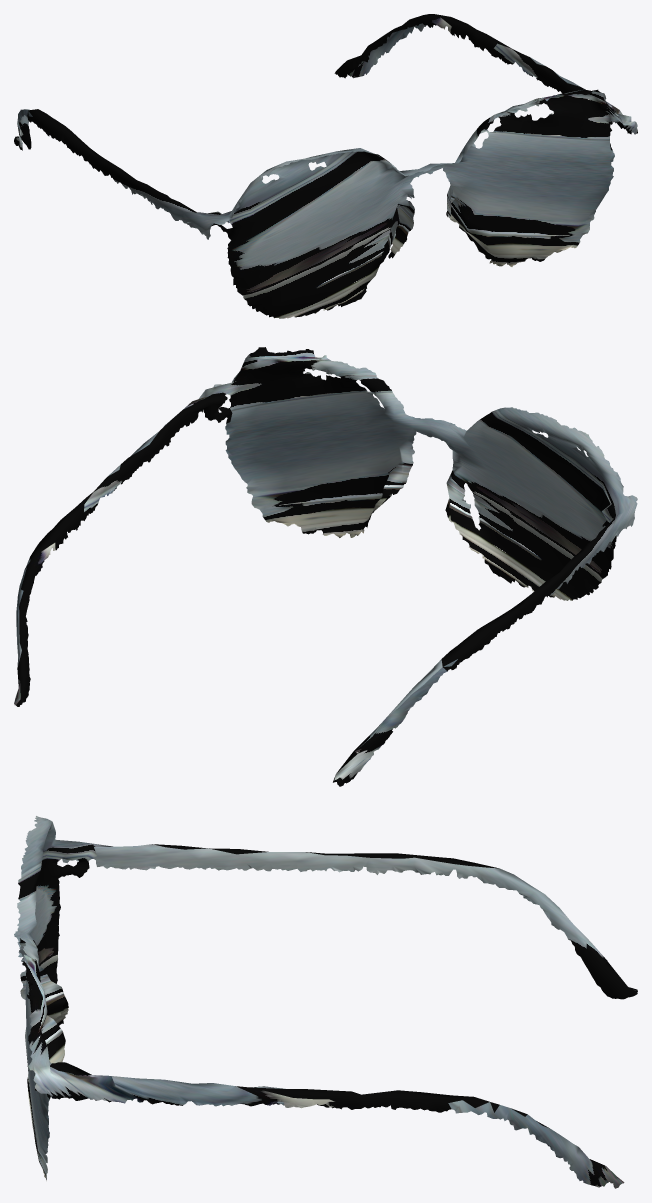
The model's file is scan_align.obj.
3 views of the same model, one above another, from view 1: azimuth 30°, elevation 25°; view 2: azimuth 150°, elevation 25°; view 3: azimuth 270°, elevation 25° (orthographic). The views are drawn at different scales.
Size of the model in its own units: 0.1291 by 0.0491 by 0.1357.
